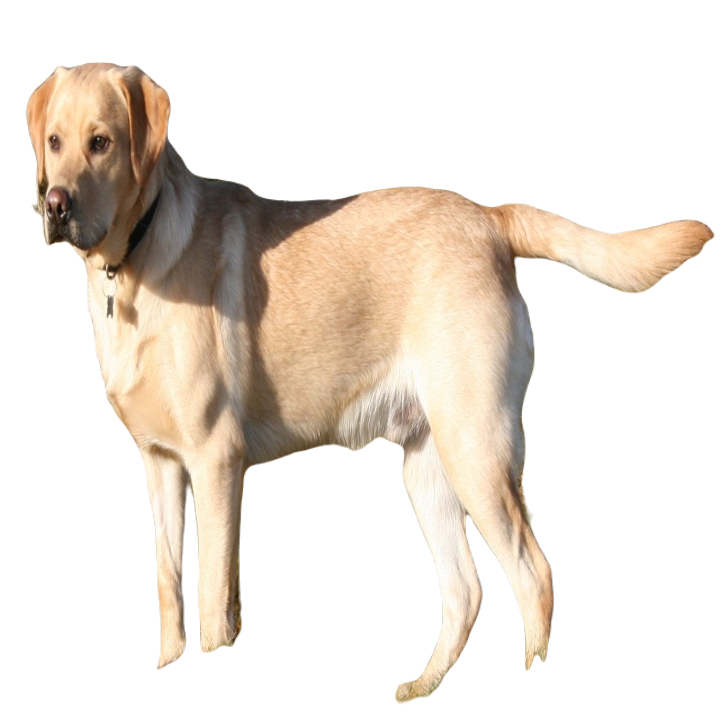Dog: (22, 58, 715, 703)
